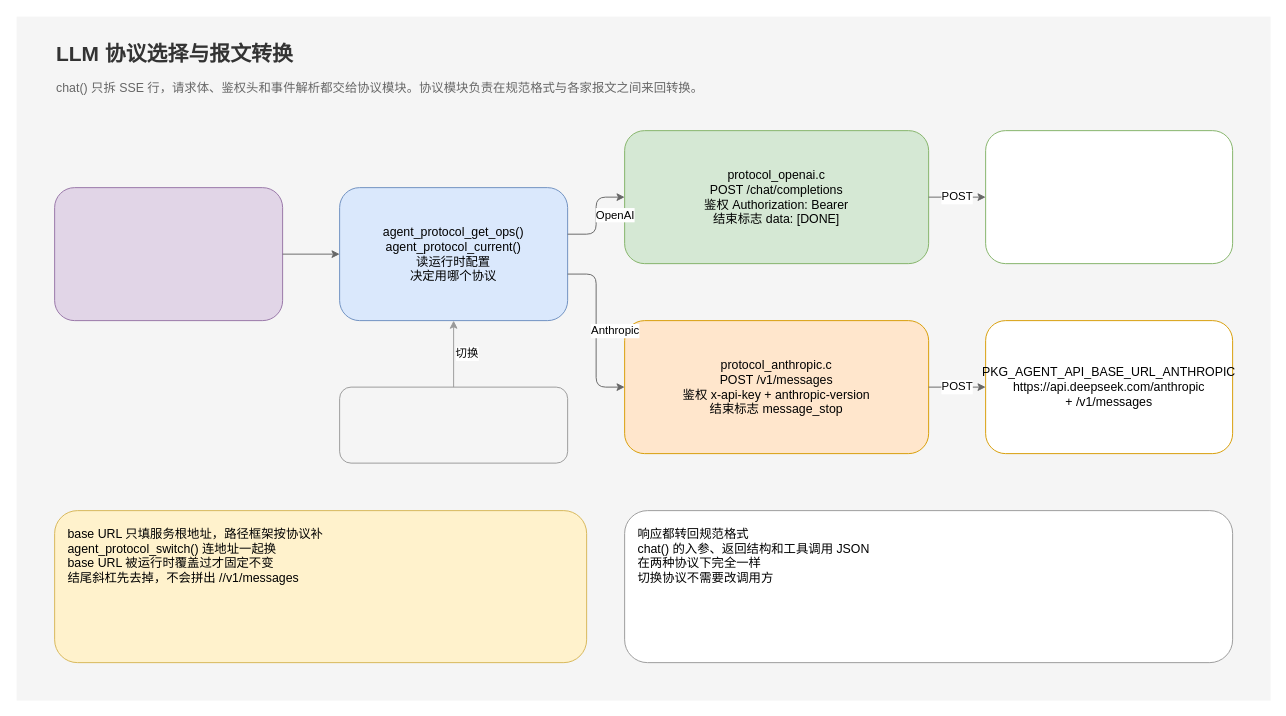
This 1286x716 diagram has some shape labels left out. Here are the shapes that lost their labels. From the top down, the centre of each, then its label:
pixel 1109 197: PKG_AGENT_API_BASE_URL_OPENAI https://api.deepseek.com + /chat/completions
pixel 168 254: chat() 入参 规范格式（OpenAI 风格） role + content tool_calls 放工具调用
pixel 453 424: MSH 命令 agent_protocol openai | anthropic
